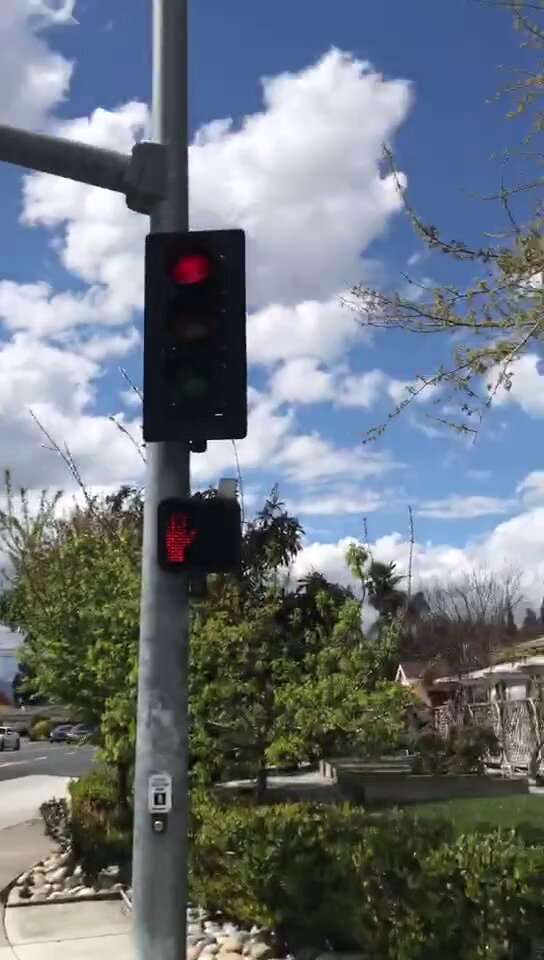red_light: (147, 231, 245, 440)
